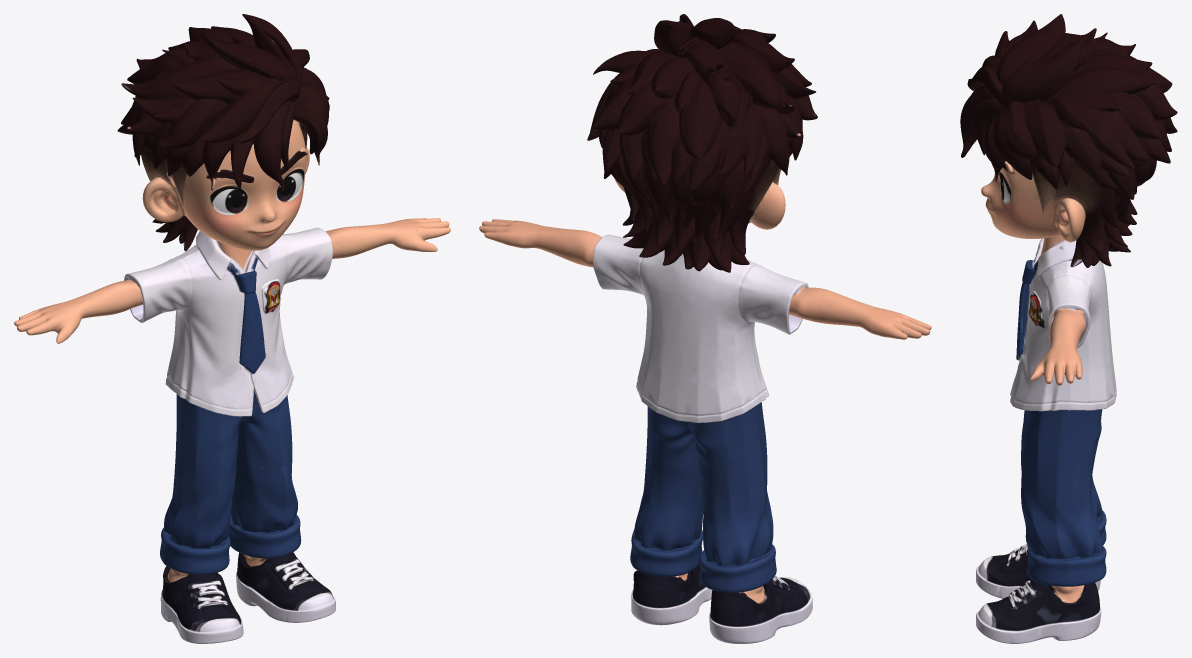
File: nakal.fbx
3 renders of one model, left to right at view 1: azimuth 30°, elevation 25°; view 2: azimuth 150°, elevation 25°; view 3: azimuth 270°, elevation 25°, orthographic. The views are drawn at different scales.
Parts seen in each view (by area): view 1: Mesh_0; view 2: Mesh_0; view 3: Mesh_0.
Boxes of the visible parts, left/top/right/bottom form: Mesh_0: left=14, top=14, right=450, bottom=643; Mesh_0: left=479, top=14, right=931, bottom=643; Mesh_0: left=960, top=14, right=1177, bottom=643.
Size of the model in its own units: 149 by 190 by 64.35.
1 material, 1 textured.
